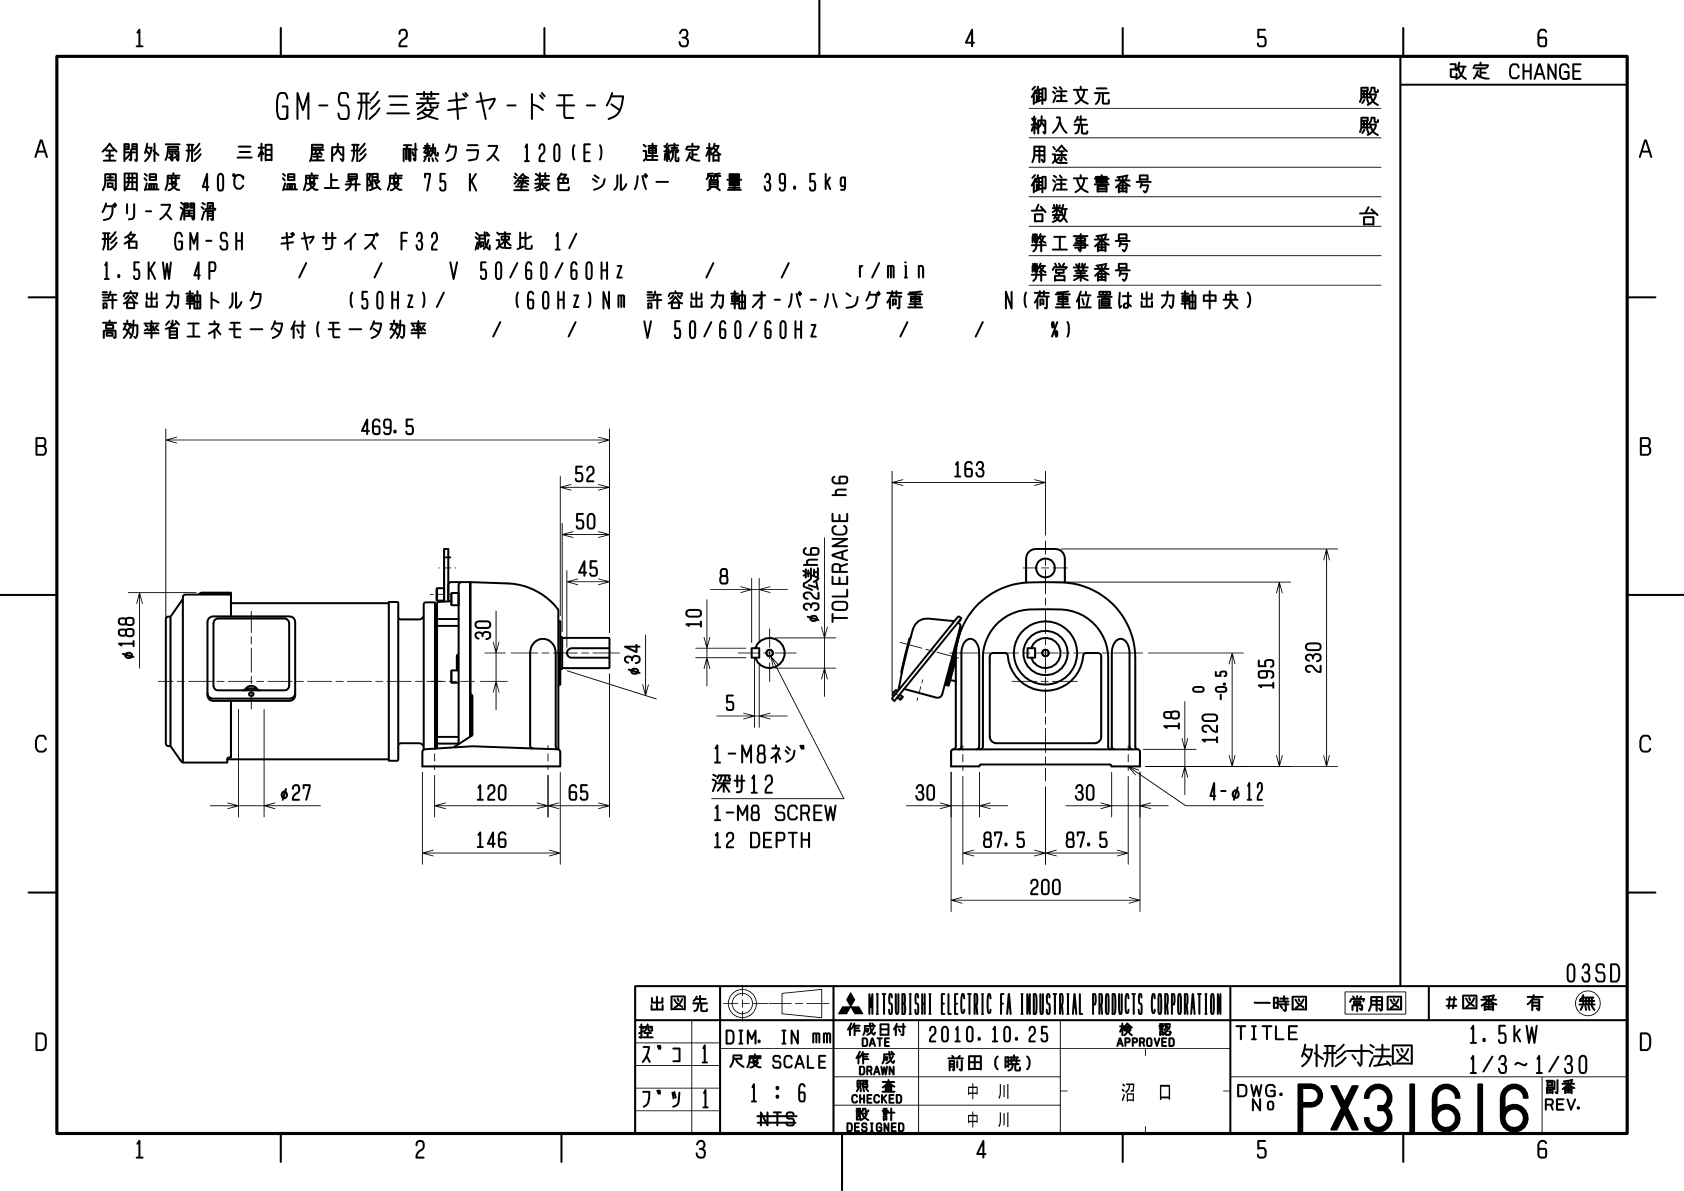GM_S_高効率屋内＿三相_脚: (95, 385, 1363, 947)
